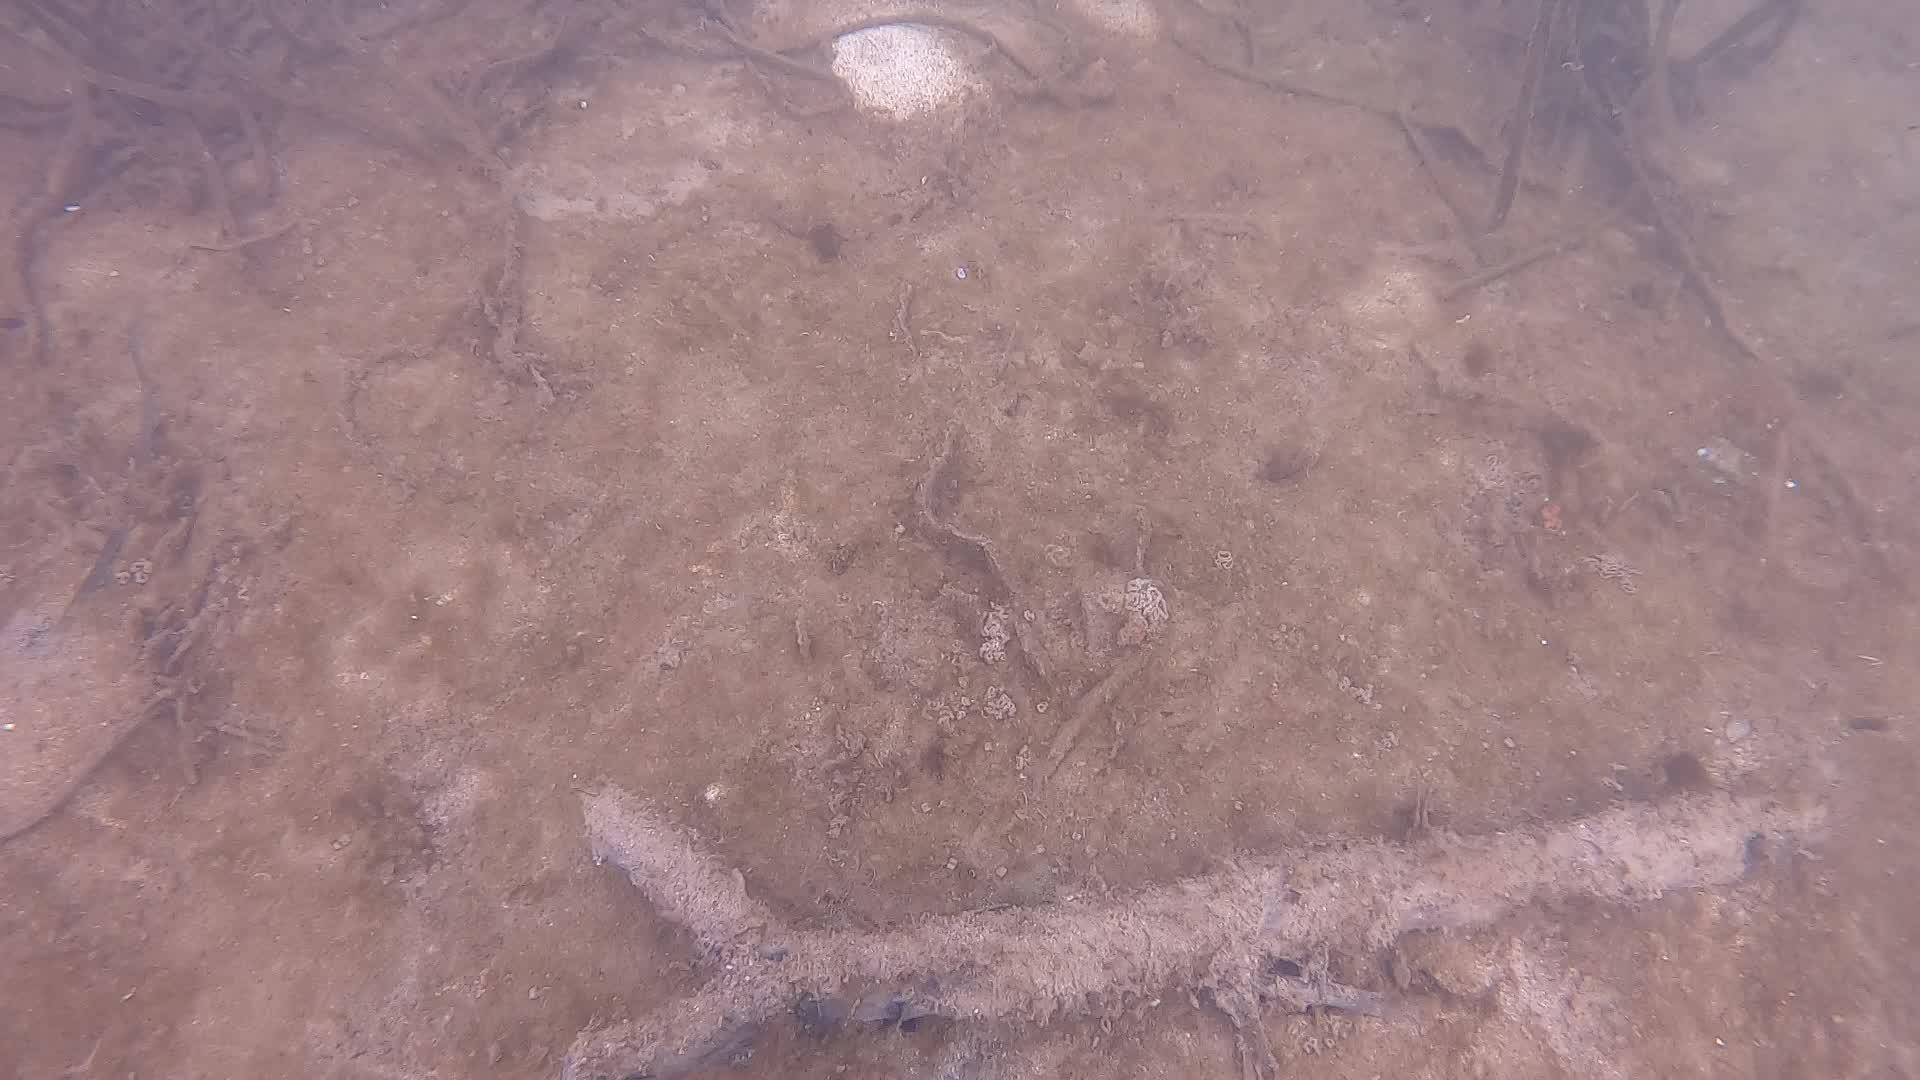wood: (513, 767, 1832, 1080)
